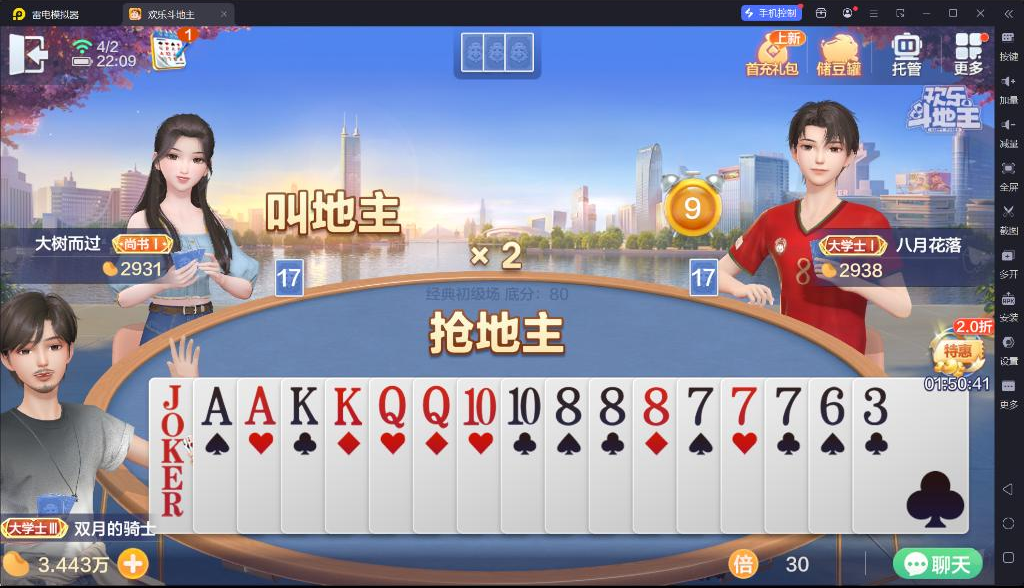A: (199, 383, 235, 429), (243, 383, 277, 428)
JOKER: (157, 381, 187, 465)
K: (330, 381, 364, 427), (285, 383, 320, 427)
Q: (374, 382, 408, 429), (419, 382, 452, 429)
eight: (639, 384, 673, 427), (595, 384, 627, 428), (551, 384, 583, 427)
seven: (727, 381, 759, 427), (772, 381, 803, 427), (683, 384, 715, 427)
six: (815, 383, 847, 428)
ten: (460, 381, 497, 427), (505, 383, 541, 426)
three: (860, 383, 889, 428)
